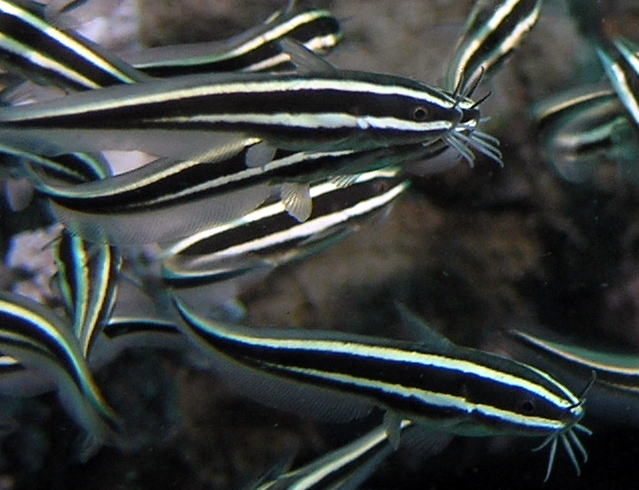gonzui: (1, 70, 474, 162)
